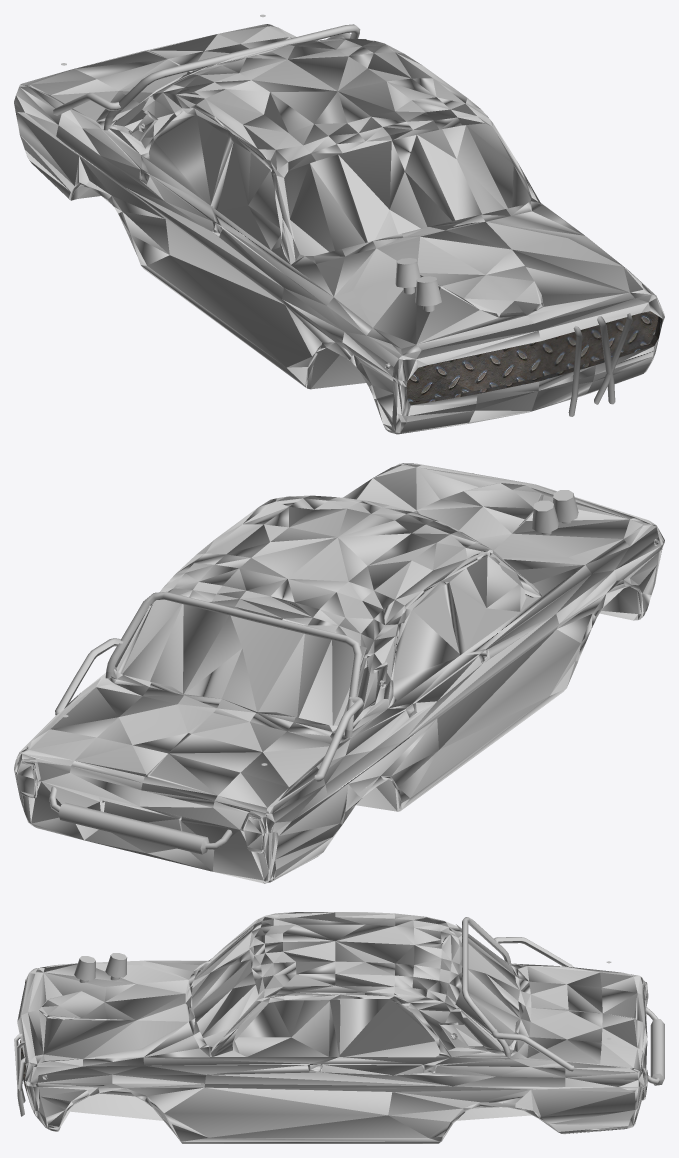
The model's file is volga.FBX.
3 views of the same model, one above another, from view 1: azimuth 30°, elevation 25°; view 2: azimuth 150°, elevation 25°; view 3: azimuth 270°, elevation 25° (orthographic). The views are drawn at different scales.
Visible parts, largest first — view 1: Cylinder002, DrawCall_1046; view 2: Cylinder002, DrawCall_1046; view 3: Cylinder002, DrawCall_1046.
Part boxes in pixels (x1=…): Cylinder002: x1=14, y1=24, x2=664, y2=434; DrawCall_1046: x1=53, y1=14, x2=632, y2=416; Cylinder002: x1=14, y1=463, x2=664, y2=883; DrawCall_1046: x1=49, y1=473, x2=473, y2=854; Cylinder002: x1=17, y1=912, x2=648, y2=1143; DrawCall_1046: x1=14, y1=917, x2=664, y2=1116.
Bounding box in the file's own units: 4671 × 3222 × 12073.
